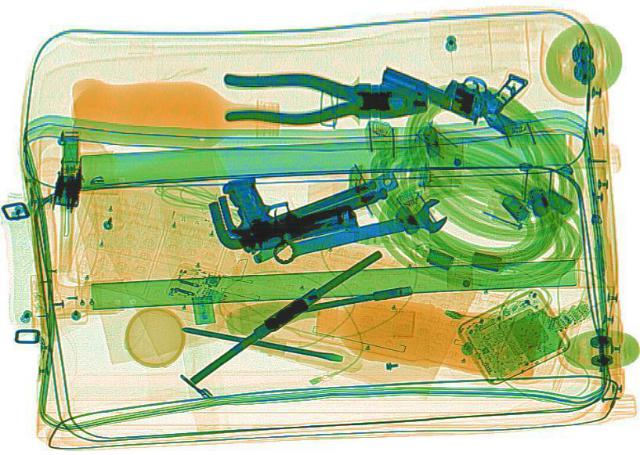Gun: (370, 32, 532, 127), (207, 158, 363, 251)
Pliers: (220, 67, 428, 127)
Wrench: (262, 195, 456, 268)
